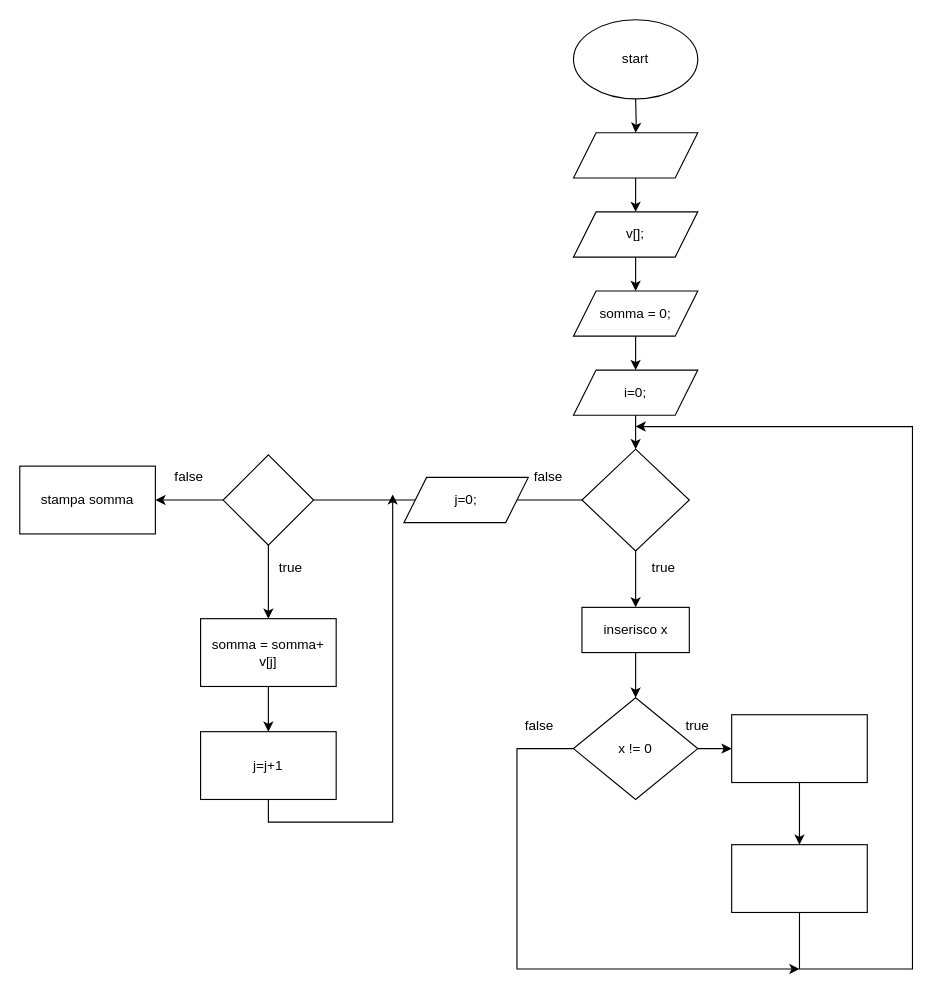
The diagram is 941 pixels wide and 998 high, and some of its shapes have lost their labels. Each missing label, with the centre of its shape:
"i = i+1" goes at pixel 799 878.
"int x=1;" goes at pixel 635 155.
"v[i] = x" goes at pixel 799 748.
"while j<=i" goes at pixel 268 499.
"while x != 0" goes at pixel 635 499.
